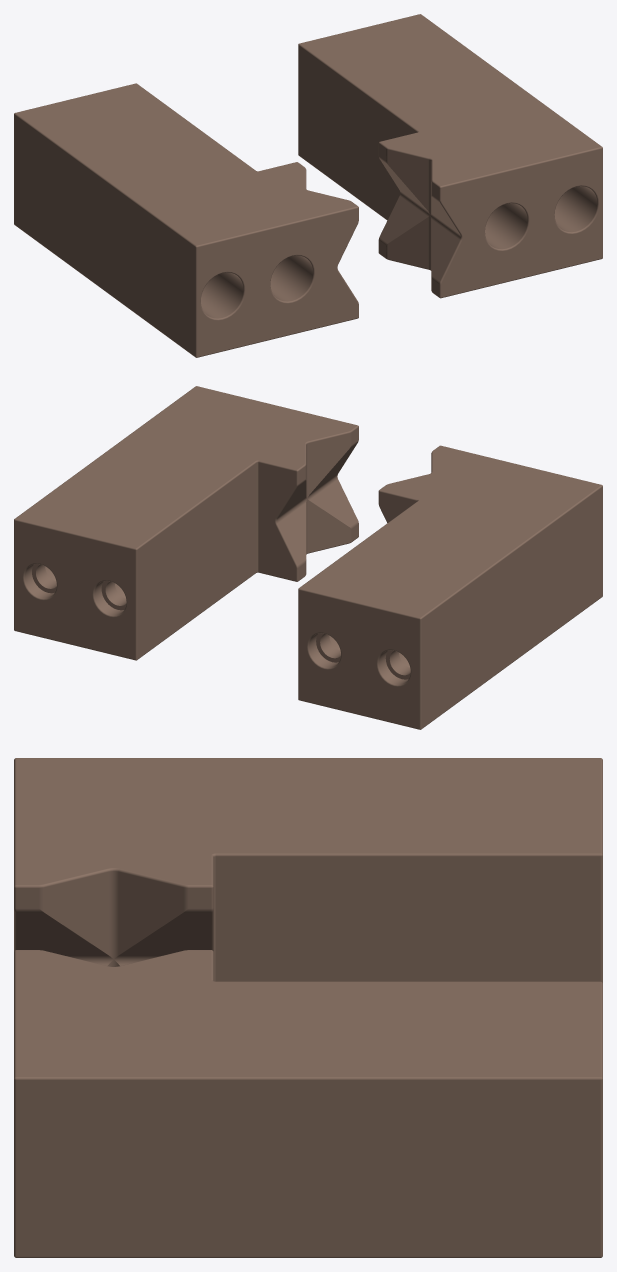
The model's file is tool_gripper_v1.glb.
3 views of the same model, one above another, from view 1: azimuth 30°, elevation 25°; view 2: azimuth 150°, elevation 25°; view 3: azimuth 270°, elevation 25° (orthographic). The views are drawn at different scales.
Visible parts, largest first — view 1: Tool_Gripper_9495N17; view 2: Tool_Gripper_9495N17; view 3: Tool_Gripper_9495N17.
Part boxes in pixels (left/top/right/bottom): Tool_Gripper_9495N17: left=14, top=14, right=602, bottom=357; Tool_Gripper_9495N17: left=14, top=386, right=602, bottom=729; Tool_Gripper_9495N17: left=14, top=758, right=602, bottom=1257.
Size of the model in its own units: 0.076 by 0.02 by 0.059.
